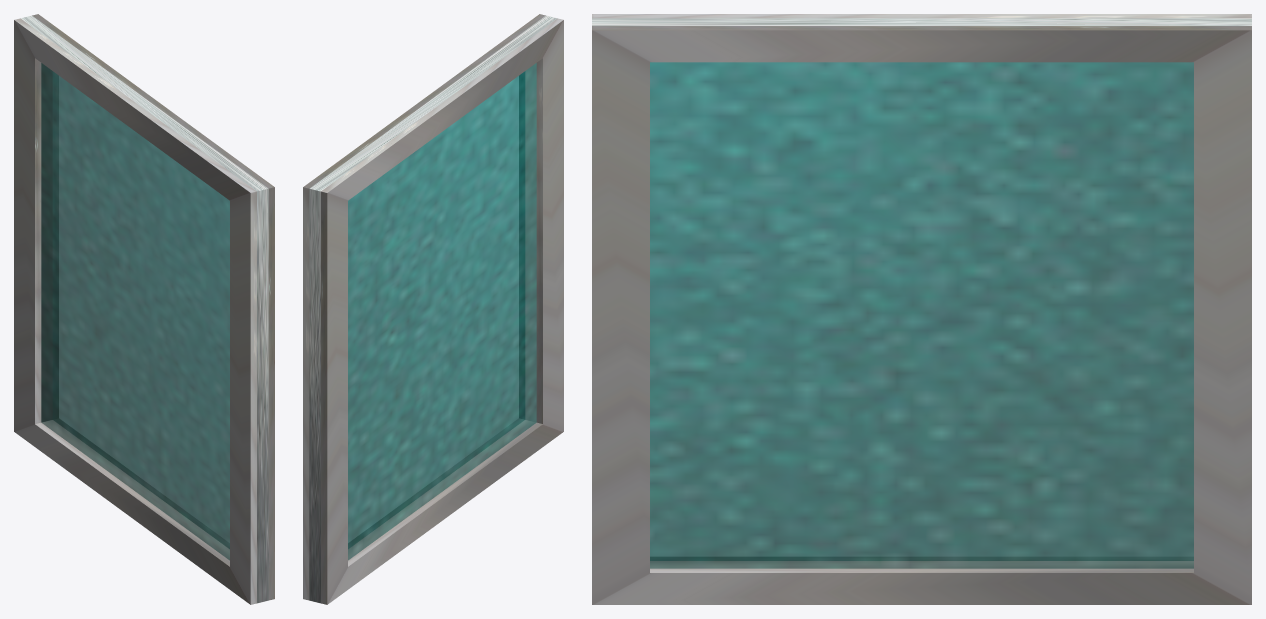
Rendered from window2.FBX.
3 views of the same model, side by side, from view 1: azimuth 30°, elevation 25°; view 2: azimuth 150°, elevation 25°; view 3: azimuth 270°, elevation 25° (orthographic). The views are drawn at different scales.
Visible parts, largest first — view 1: Object003, Box002, Object005; view 2: Object003, Box002, Object005; view 3: Object003, Box002, Object005.
Boxes of the visible parts, x1,y1,x2,y2 form: Object003: (41,63,229,560); Box002: (14,14,274,604); Object005: (21,15,268,603); Object003: (348,63,536,560); Box002: (303,14,563,604); Object005: (309,15,556,603); Object003: (650,62,1193,568); Box002: (592,14,1251,604); Object005: (592,18,1251,25).
Bounding box in the file's own units: 10.03 × 163 × 170.
3 materials, 3 textured.
